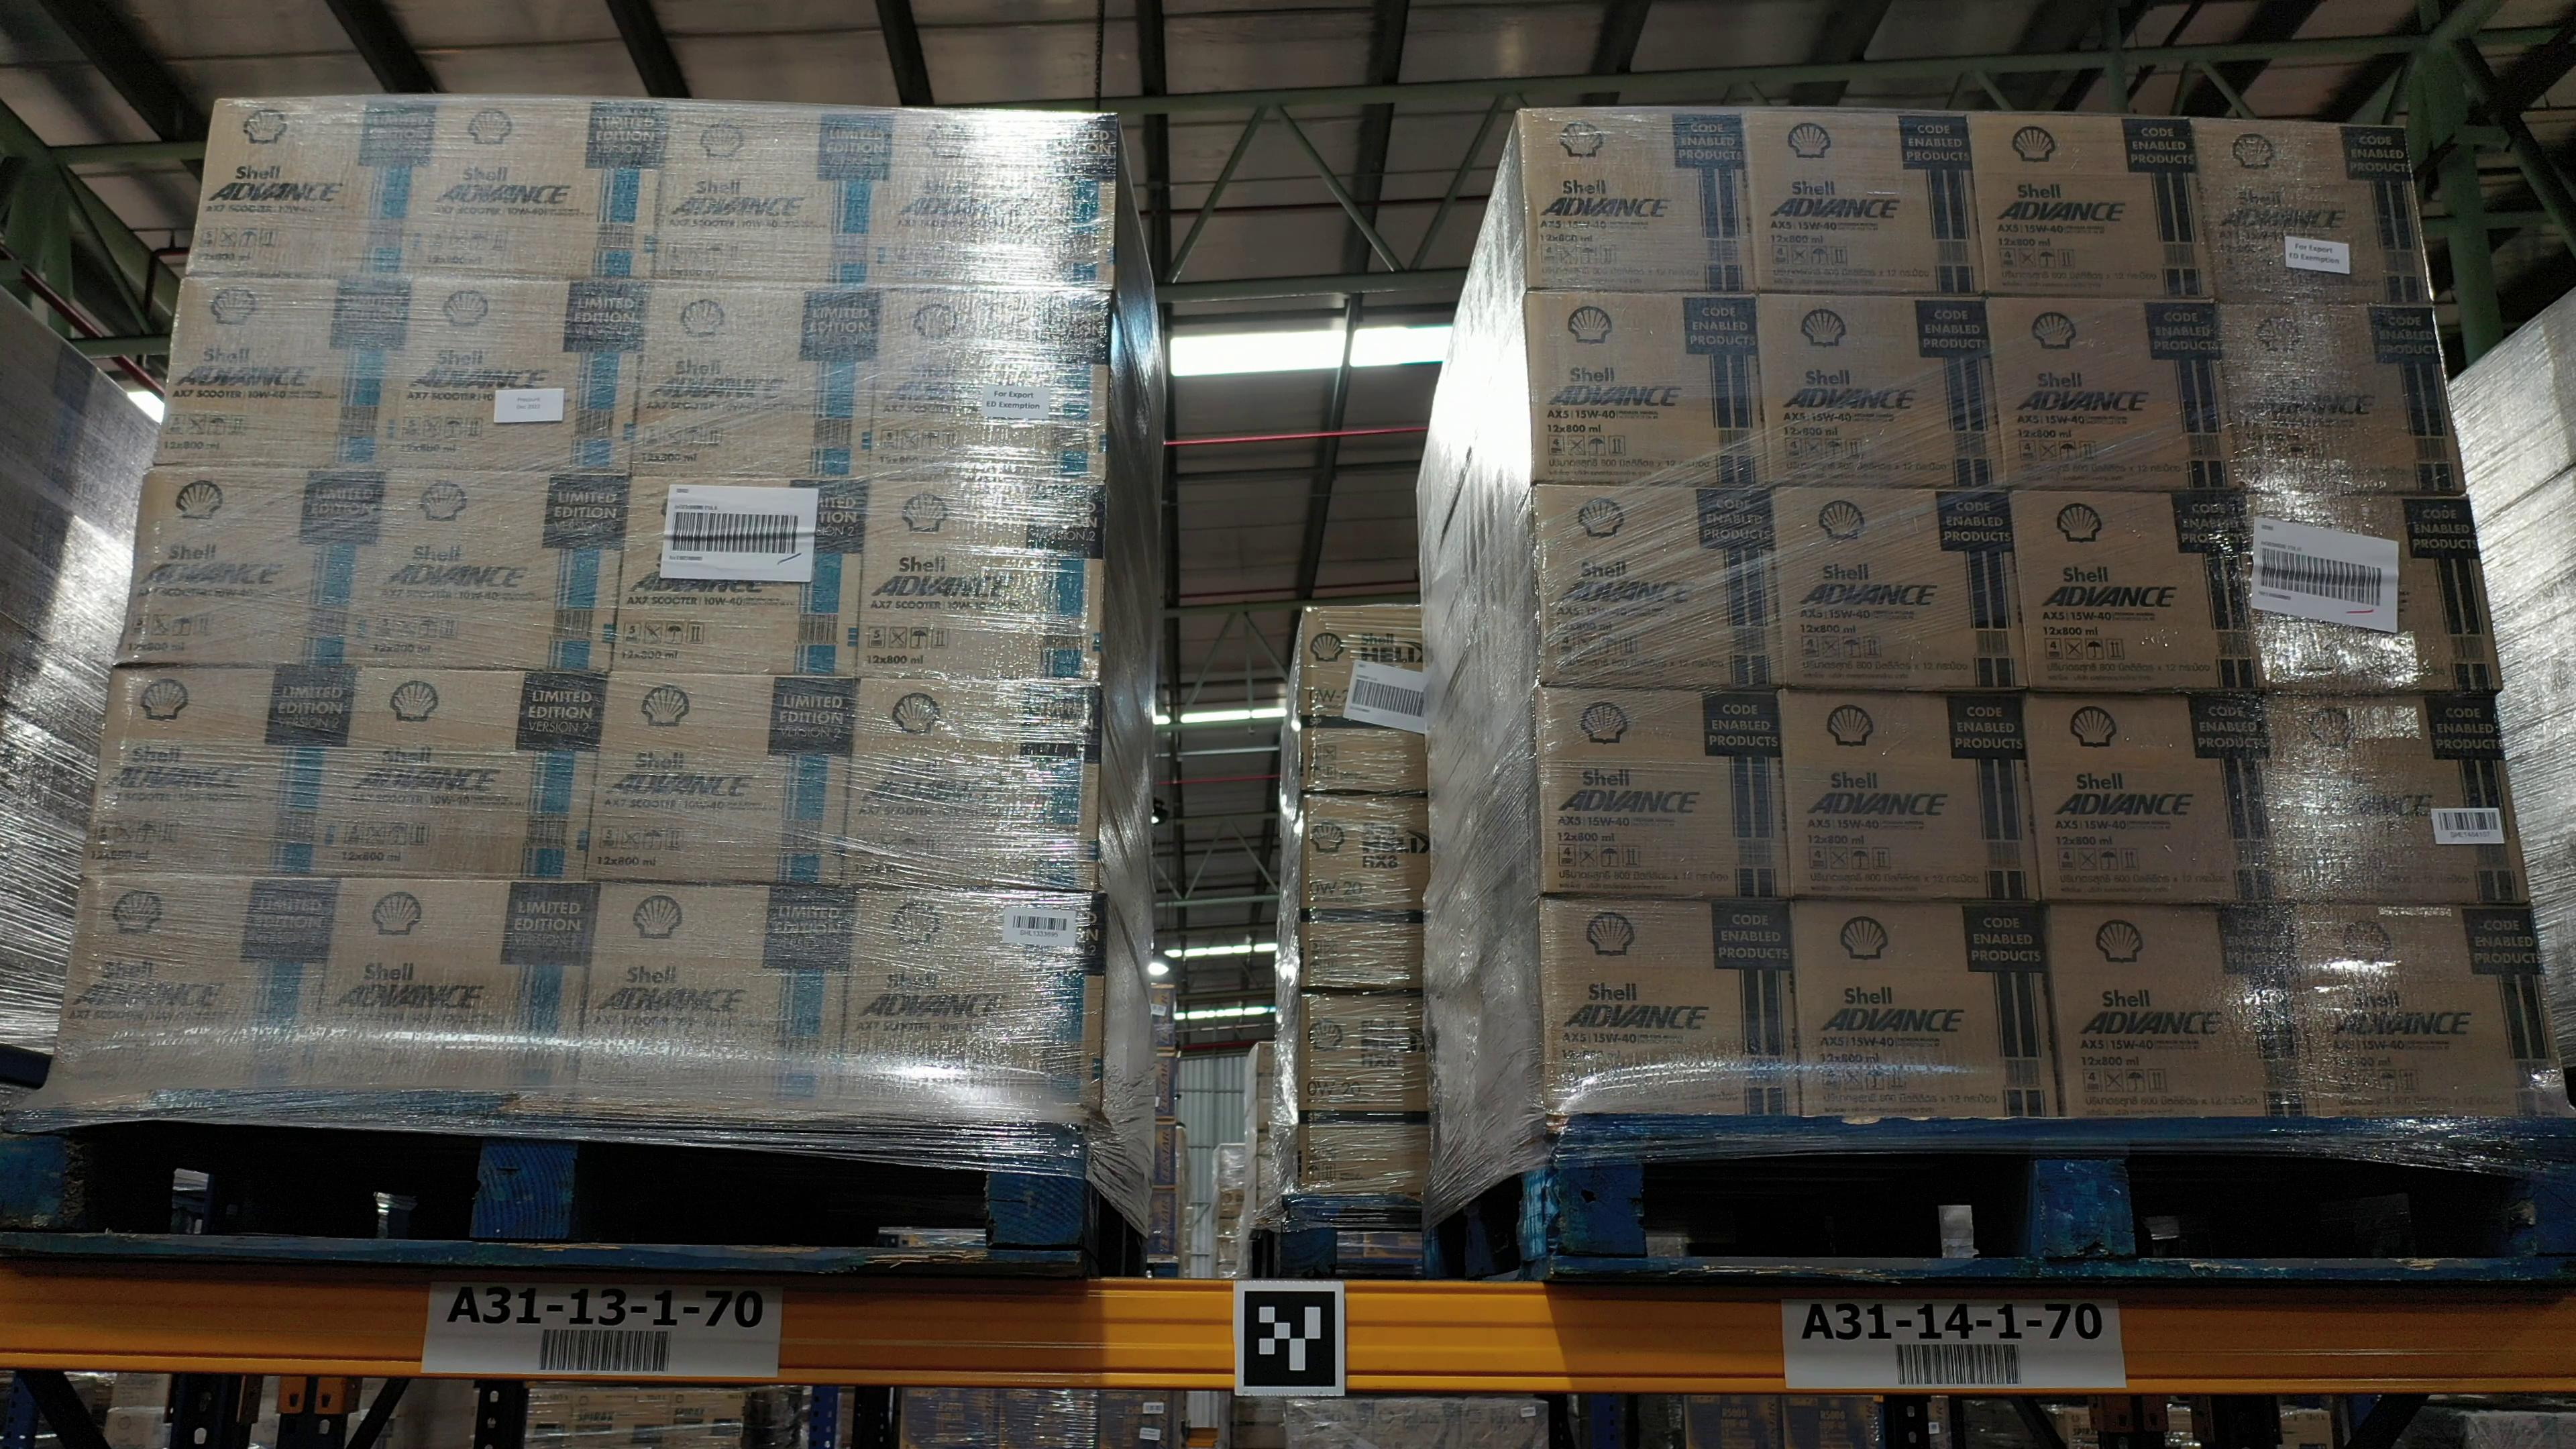-: (568, 879, 849, 1116), (311, 874, 600, 1104), (837, 883, 1108, 1120), (48, 872, 338, 1093), (83, 667, 366, 881), (341, 667, 610, 886), (2284, 906, 2560, 1116), (1790, 901, 2058, 1116), (591, 671, 858, 886), (1539, 895, 1796, 1116), (2259, 694, 2526, 906), (113, 465, 389, 671), (846, 672, 1102, 892), (370, 467, 630, 676), (1782, 690, 2038, 901), (387, 272, 651, 476), (610, 474, 870, 679), (2047, 906, 2300, 1116), (2240, 492, 2498, 697), (152, 271, 412, 474), (2022, 694, 2273, 901), (1534, 690, 1787, 895), (630, 278, 883, 483), (1771, 488, 2022, 690), (858, 476, 1104, 679), (1534, 483, 1771, 690), (414, 94, 671, 285), (872, 281, 1113, 483), (1743, 103, 1985, 303), (1967, 113, 2220, 304), (2013, 494, 2254, 690), (2192, 113, 2434, 308), (2219, 303, 2465, 494), (1987, 297, 2229, 488), (188, 96, 435, 281), (651, 101, 899, 287), (1755, 297, 1997, 483), (1525, 292, 1760, 483), (1520, 110, 1755, 299), (883, 108, 1116, 290)
box: (1295, 993, 1430, 1194), (1302, 794, 1430, 991), (1302, 603, 1426, 794)
